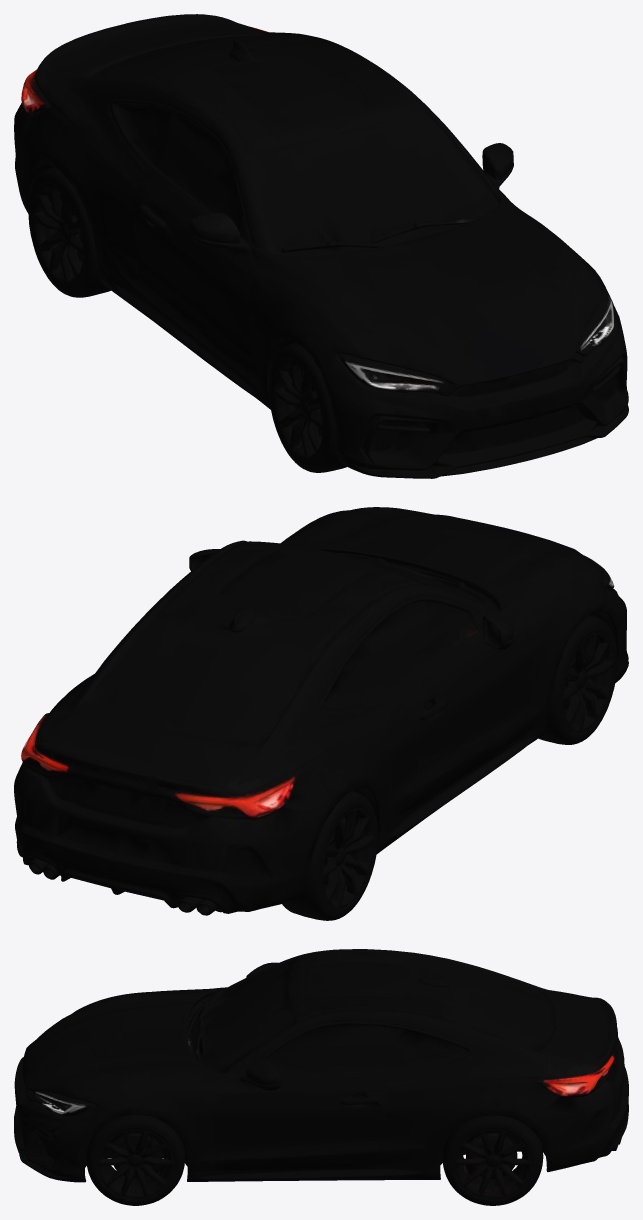
File: auto-3d.glb
The picture shows the model from 3 angles, top to bottom: view 1: azimuth 30°, elevation 25°; view 2: azimuth 150°, elevation 25°; view 3: azimuth 270°, elevation 25°; orthographic projection. The views are drawn at different scales.
Parts seen in each view (by area): view 1: material; view 2: material; view 3: material.
Part boxes in pixels (x1,y1,x2,y2): material: (14,14,628,478); material: (14,507,628,920); material: (14,949,628,1205).
Size of the model in its own units: 0.5174 by 0.3798 by 1.16.
Materials: 1 (1 with a texture image).
